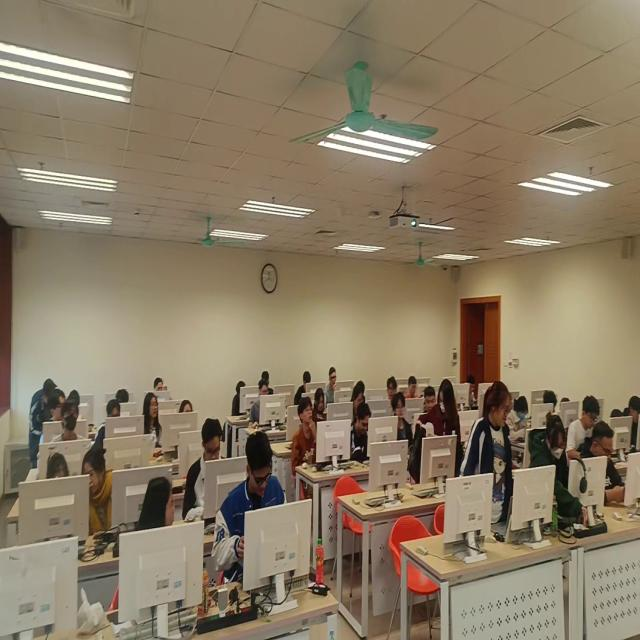raise_head: (293, 398, 318, 474), (50, 398, 90, 445), (142, 392, 163, 447), (391, 392, 413, 441), (424, 387, 437, 413), (387, 376, 398, 400), (154, 378, 169, 392), (180, 401, 195, 414)
stand: (462, 380, 513, 531), (529, 412, 589, 531), (409, 379, 462, 486), (29, 378, 59, 471)
using_computer: (182, 419, 227, 523), (577, 421, 627, 508), (567, 396, 601, 459), (95, 400, 123, 444), (351, 404, 372, 462), (506, 396, 530, 445), (249, 380, 271, 433), (623, 393, 640, 451), (295, 371, 312, 407), (233, 382, 249, 417), (313, 389, 328, 423), (327, 368, 339, 404), (468, 376, 479, 410), (351, 386, 364, 414), (262, 372, 275, 396), (544, 390, 557, 412), (407, 376, 418, 398), (116, 389, 130, 404), (68, 390, 82, 405), (610, 406, 624, 420), (358, 381, 366, 405), (561, 397, 571, 410)
